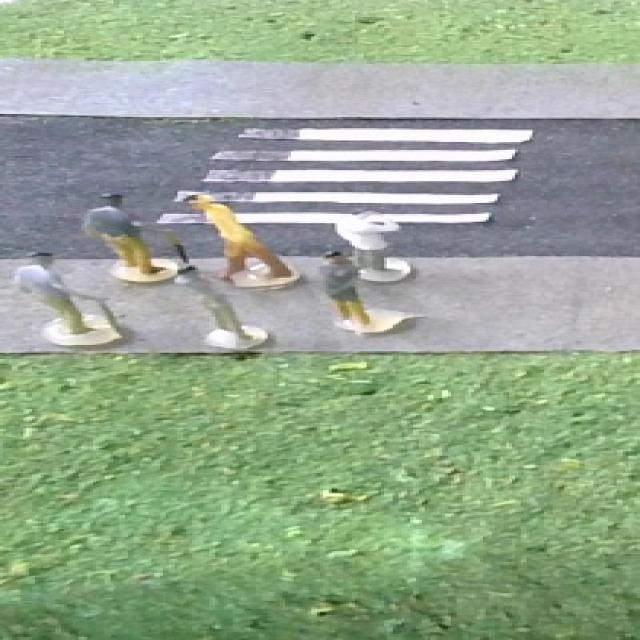person: (8, 243, 147, 355), (182, 181, 308, 299), (159, 247, 273, 366), (60, 186, 187, 290), (314, 202, 442, 288), (308, 243, 410, 334)
